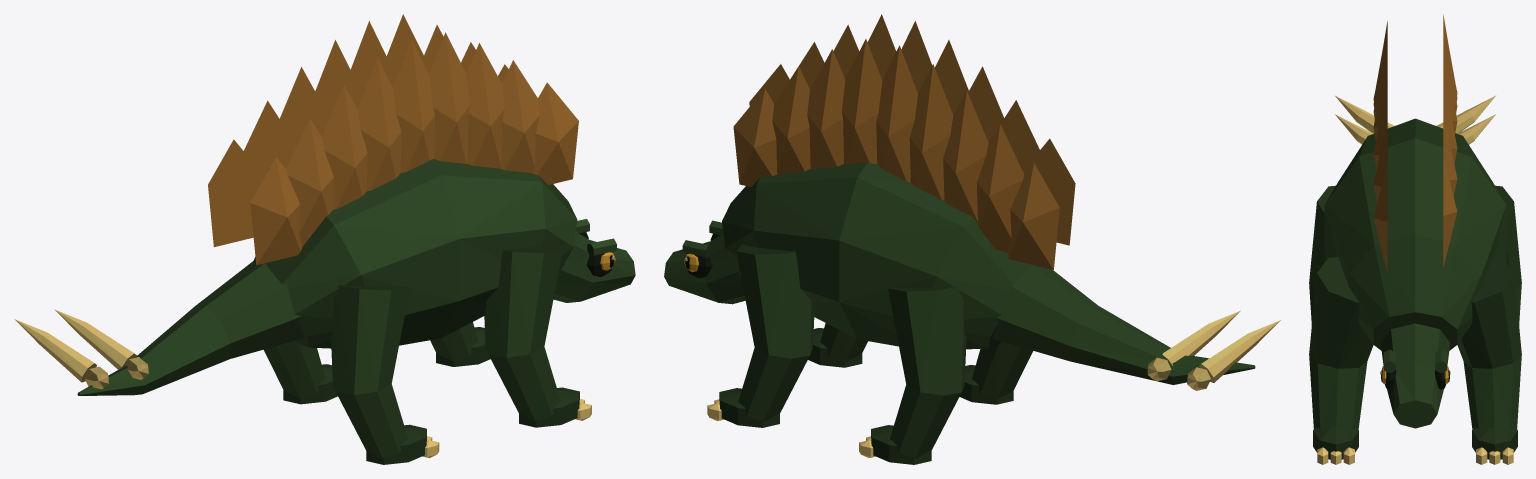
Rendered from SM_stegosaurus.fbx.
The picture shows the model from 3 angles, left to right: view 1: azimuth 30°, elevation 25°; view 2: azimuth 150°, elevation 25°; view 3: azimuth 270°, elevation 25°; orthographic projection. The views are drawn at different scales.
Visible parts, largest first — view 1: SM_stegosaurus • FBX; view 2: SM_stegosaurus • FBX; view 3: SM_stegosaurus • FBX.
Part boxes in pixels (x1,y1,x2,y2): SM_stegosaurus • FBX: (14,14,635,464); SM_stegosaurus • FBX: (664,14,1280,464); SM_stegosaurus • FBX: (1309,14,1521,464).
Bounding box in the file's own units: 858 × 289 × 567.
